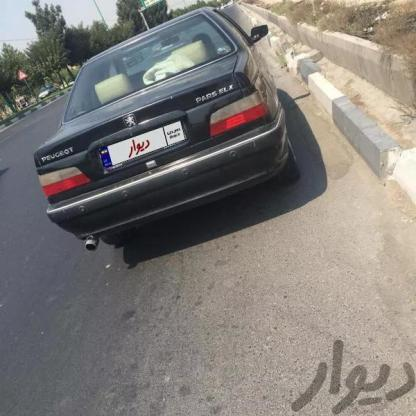Car: (21, 7, 317, 242)
